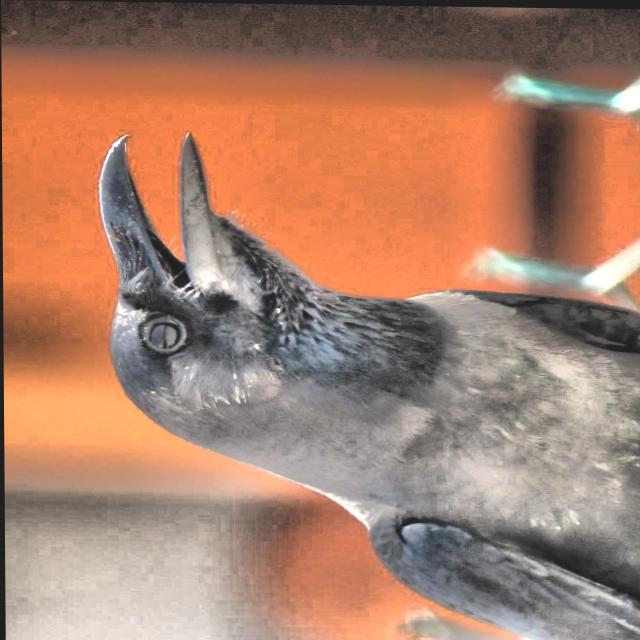crow: (75, 130, 637, 640)
